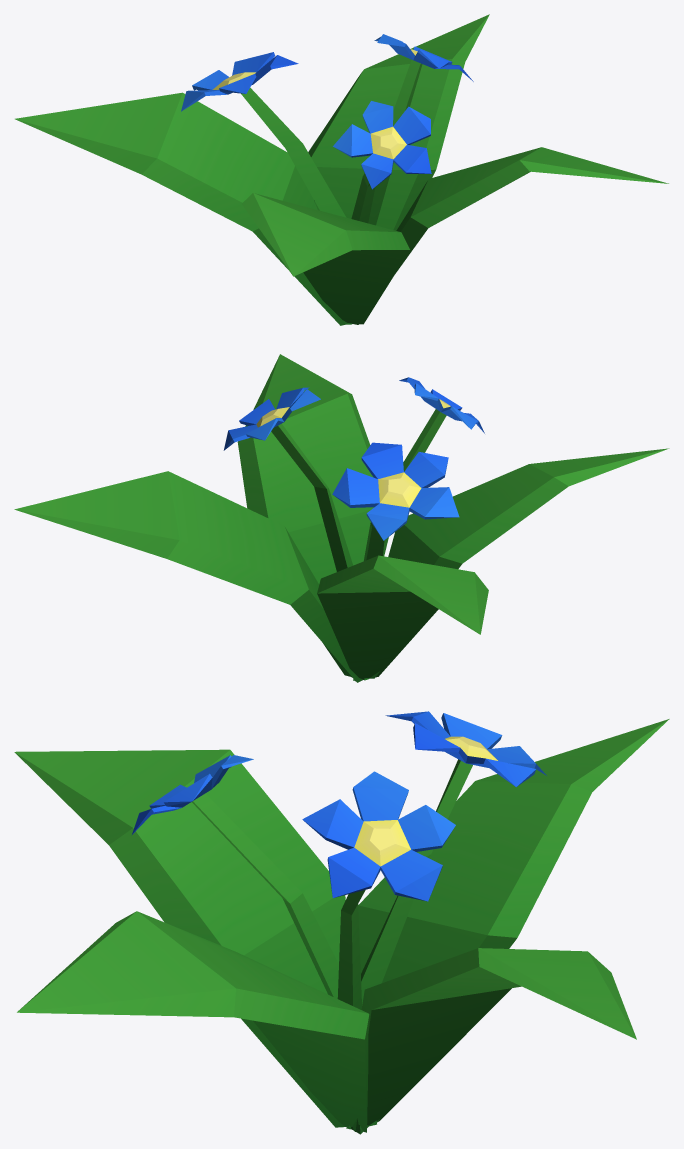
File: Flower_bush_blue1.fbx
3 renders of one model, top to bottom at view 1: azimuth 30°, elevation 25°; view 2: azimuth 150°, elevation 25°; view 3: azimuth 270°, elevation 25°, orthographic. The views are drawn at different scales.
Parts seen in each view (by area): view 1: Flower_bush_blue; view 2: Flower_bush_blue; view 3: Flower_bush_blue.
Part boxes in pixels (box(x1,y1,x2,y2)): Flower_bush_blue: box(15, 14, 668, 325); Flower_bush_blue: box(14, 354, 669, 682); Flower_bush_blue: box(14, 711, 669, 1134).
Size of the model in its own units: 115 by 62.64 by 99.26.
